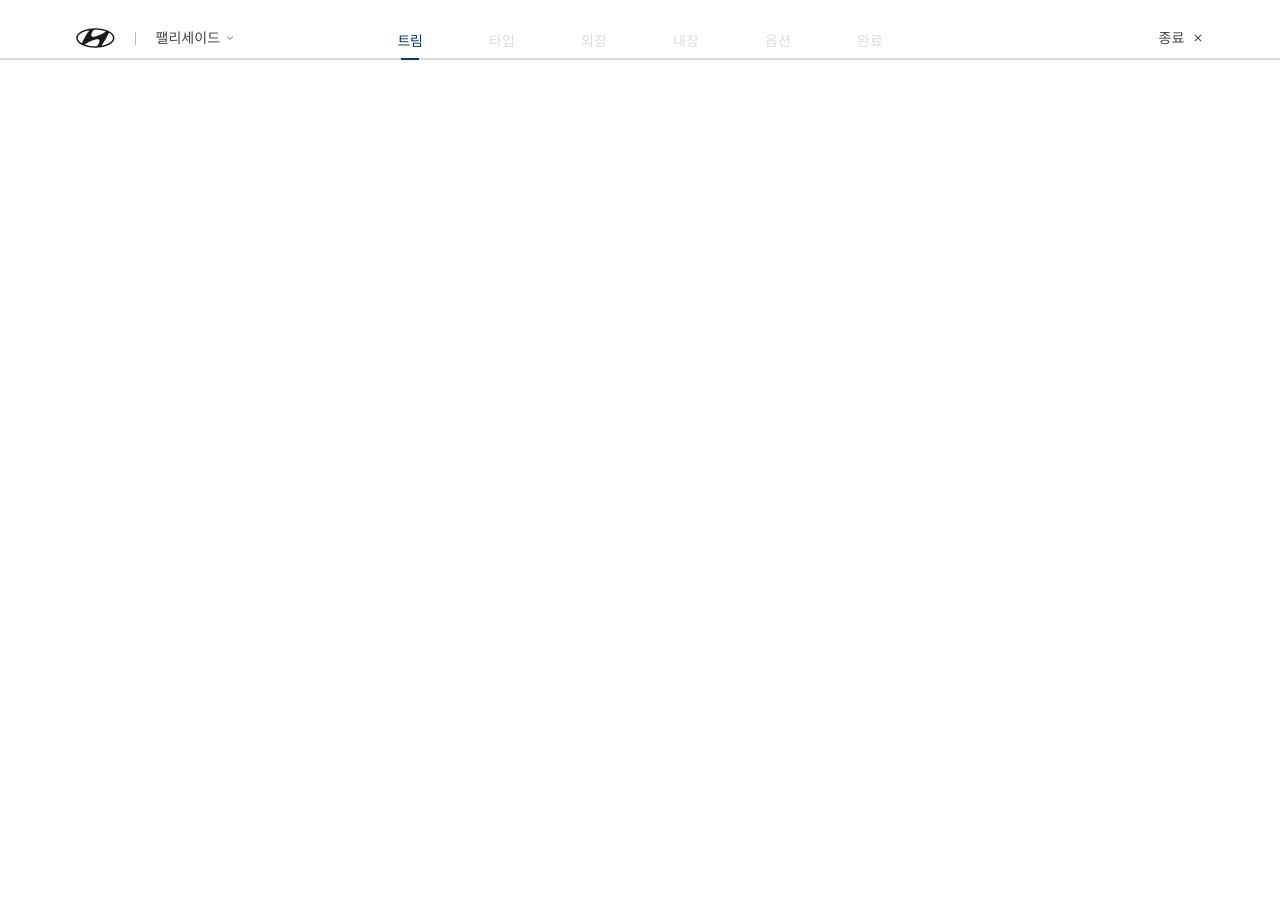
Scenario: Header 컴포넌트 테스트 › Header 컴포넌트 모달 테스트 › 로고를 클릭할 시 종료 확인 모달이 표시된다.
Click the heading at (95, 38), box [76,28,115,48]
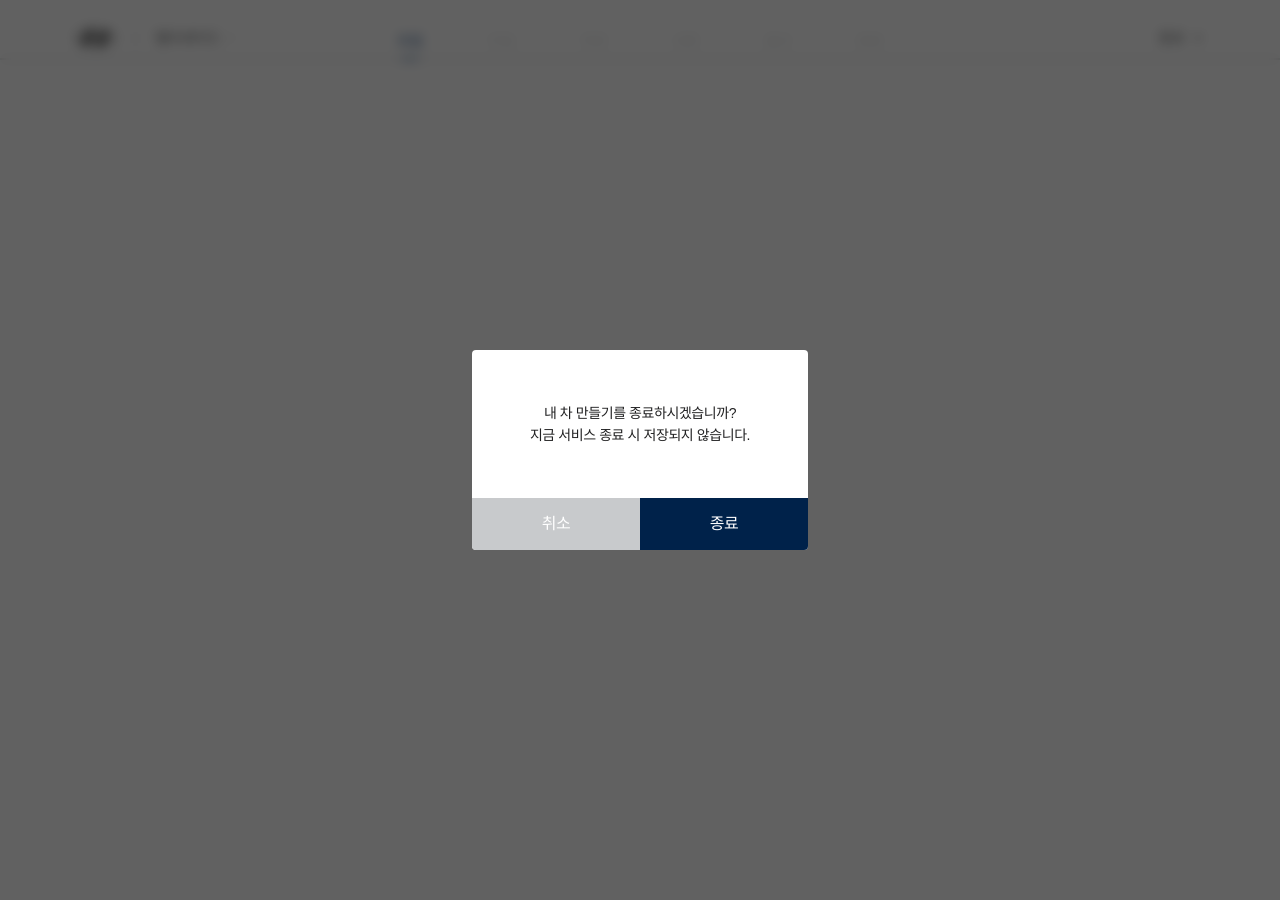
Expected: the dialog is shown, [472,350,808,550]
